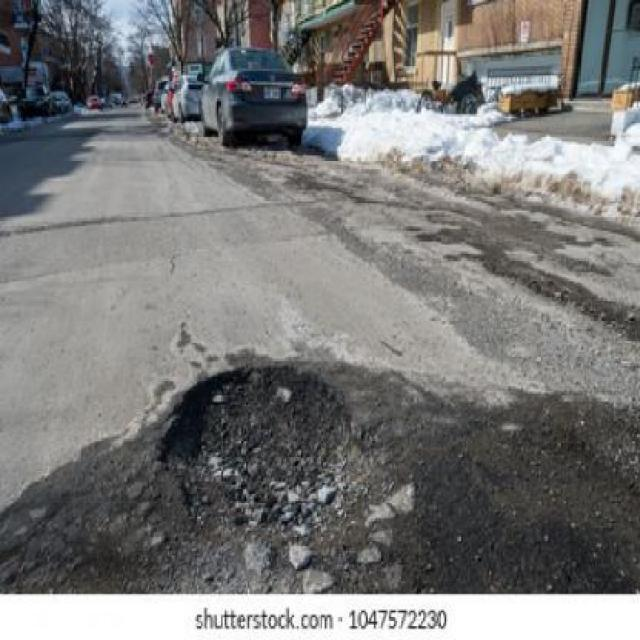Buraco: (156, 361, 359, 549)
